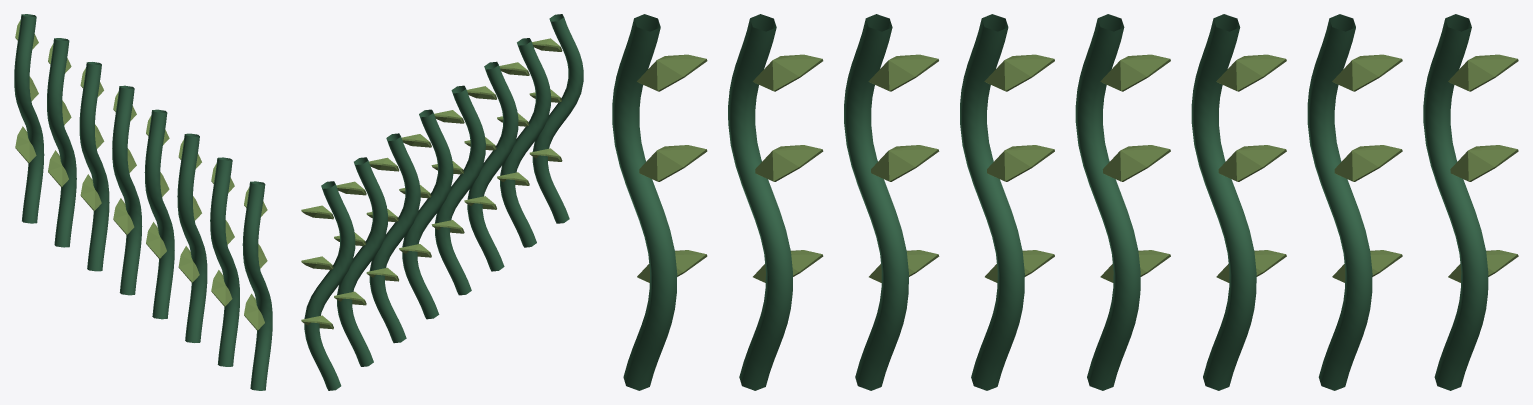
File: vine_gate.glb
3 views of the same model, side by side, from view 1: azimuth 30°, elevation 25°; view 2: azimuth 150°, elevation 25°; view 3: azimuth 270°, elevation 25° (orthographic). The views are drawn at different scales.
Parts seen in each view (by area): view 1: LivingHedge; view 2: LivingHedge; view 3: LivingHedge.
Part boxes in pixels (bbox=[...]): LivingHedge: bbox=[14, 14, 272, 390]; LivingHedge: bbox=[301, 14, 583, 390]; LivingHedge: bbox=[612, 14, 1518, 390].
Size of the model in its own units: 0.295 by 1.51 by 3.36.
